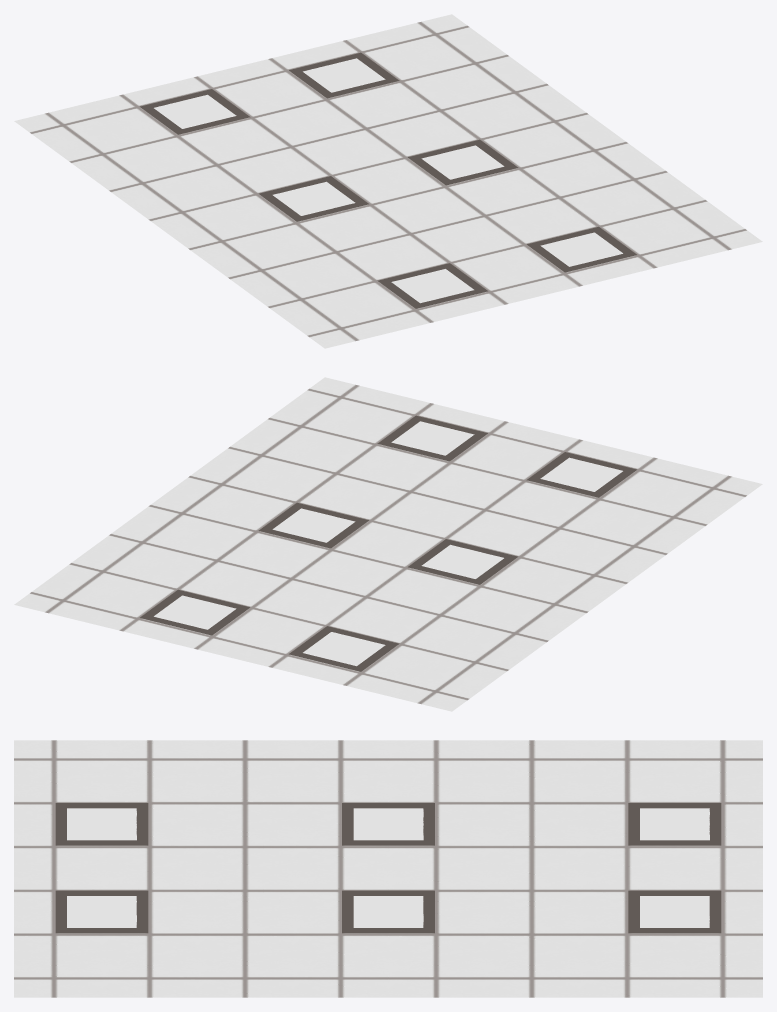
Rendered from s2f_mktab.FBX.
The picture shows the model from 3 angles, top to bottom: view 1: azimuth 30°, elevation 25°; view 2: azimuth 150°, elevation 25°; view 3: azimuth 270°, elevation 25°; orthographic projection. The views are drawn at different scales.
Parts seen in each view (by area): view 1: Plane001, Plane017, Plane021, Plane016, Plane020, Plane014, Plane012, Plane011, Plane015, Plane013, Plane018, Plane019 (+1 smaller); view 2: Plane001, Plane017, Plane021, Plane012, Plane016, Plane020, Plane014, Plane013, Plane011, Plane019, Plane015, Plane018 (+1 smaller); view 3: Plane001, Plane016, Plane012, Plane020, Plane017, Plane014, Plane021, Plane013, Plane022, Plane011, Plane019, Plane018 (+1 smaller).
Boxes of the visible parts, <box> form: Plane001: <box>14,14,762,348</box>; Plane017: <box>421,145,504,179</box>; Plane021: <box>540,232,622,266</box>; Plane016: <box>273,181,355,215</box>; Plane020: <box>391,269,473,303</box>; Plane014: <box>303,58,385,92</box>; Plane012: <box>154,94,236,128</box>; Plane011: <box>140,89,250,134</box>; Plane015: <box>259,176,368,221</box>; Plane013: <box>289,52,399,98</box>; Plane018: <box>408,139,518,185</box>; Plane019: <box>377,263,487,308</box>; Plane001: <box>14,377,762,711</box>; Plane017: <box>272,508,355,542</box>; Plane021: <box>391,421,474,455</box>; Plane012: <box>303,632,385,666</box>; Plane016: <box>421,544,503,578</box>; Plane020: <box>540,457,622,491</box>; Plane014: <box>154,595,236,629</box>; Plane013: <box>140,589,249,635</box>; Plane011: <box>289,626,399,671</box>; Plane019: <box>526,452,636,497</box>; Plane015: <box>408,539,517,584</box>; Plane018: <box>258,502,368,548</box>; Plane001: <box>14,740,762,997</box>; Plane016: <box>353,808,423,840</box>; Plane012: <box>640,808,709,840</box>; Plane020: <box>67,808,136,840</box>; Plane017: <box>353,896,423,927</box>; Plane014: <box>640,896,709,927</box>; Plane021: <box>67,896,136,927</box>; Plane013: <box>628,890,721,933</box>; Plane022: <box>55,890,148,933</box>; Plane011: <box>628,803,721,845</box>; Plane019: <box>55,803,148,845</box>; Plane018: <box>342,890,434,933</box>.
Size of the model in its own units: 334 by 0.5116 by 411.
